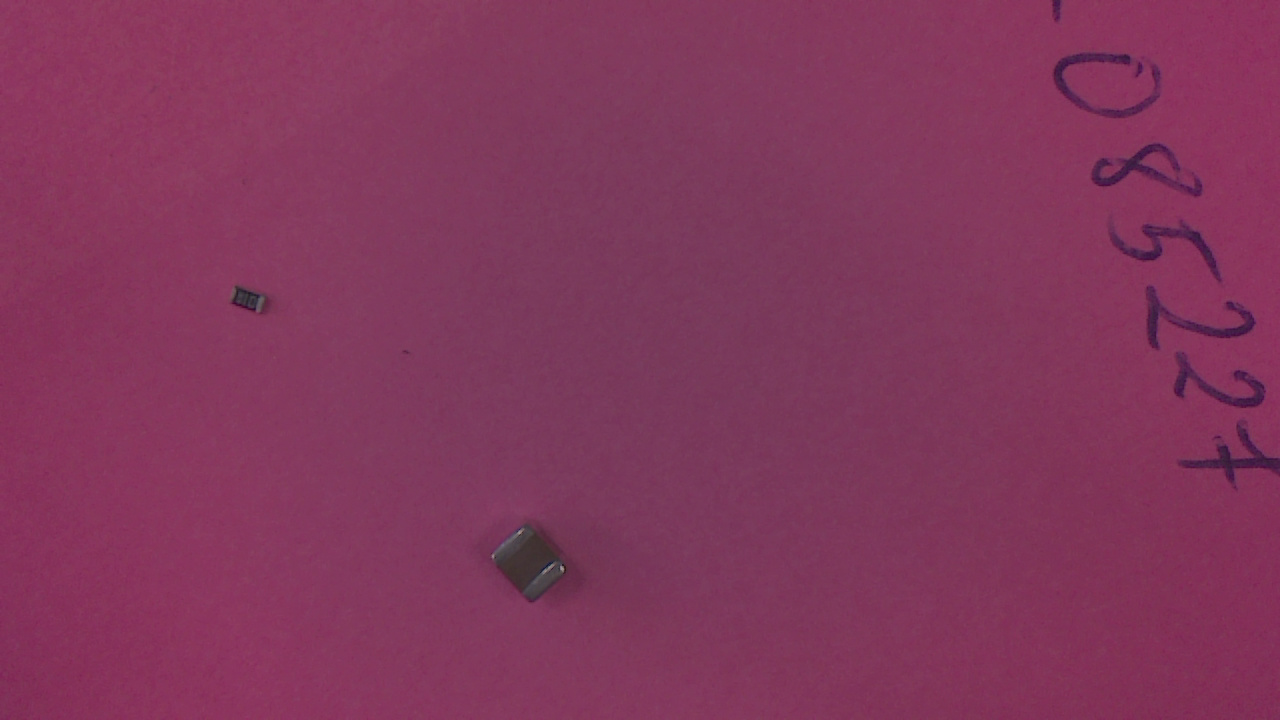Condensator: (496, 527, 575, 608)
Resistor: (232, 291, 272, 318)
